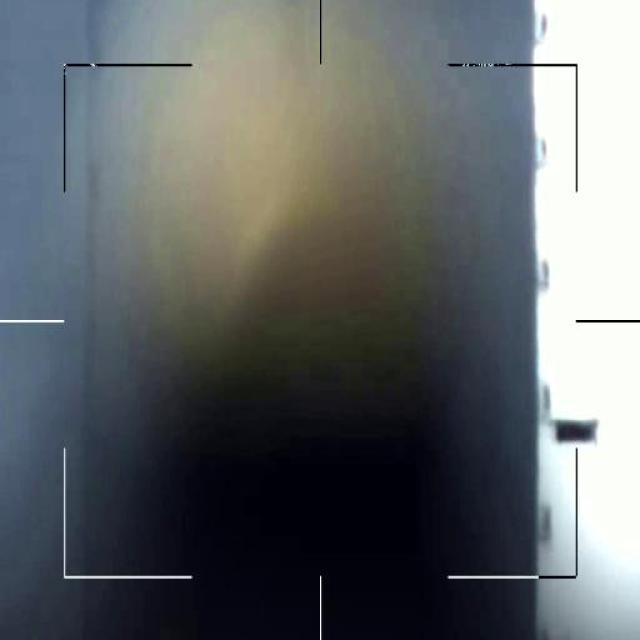bird: (552, 411, 596, 446)
